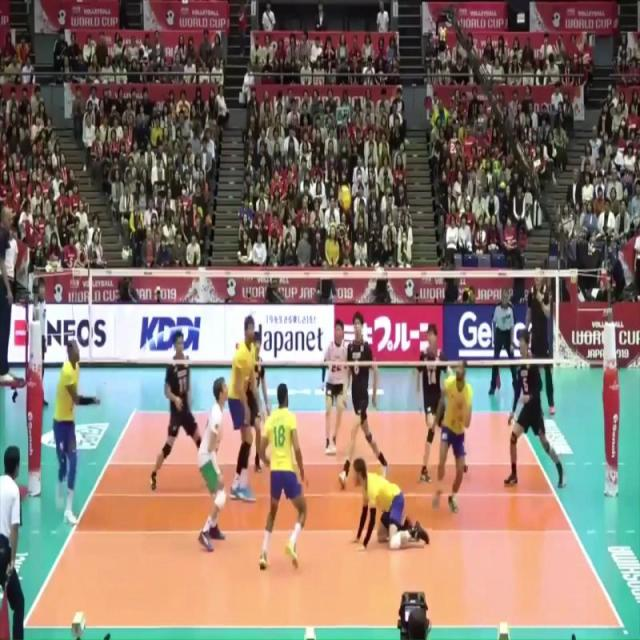volleyball: (336, 183, 352, 210)
